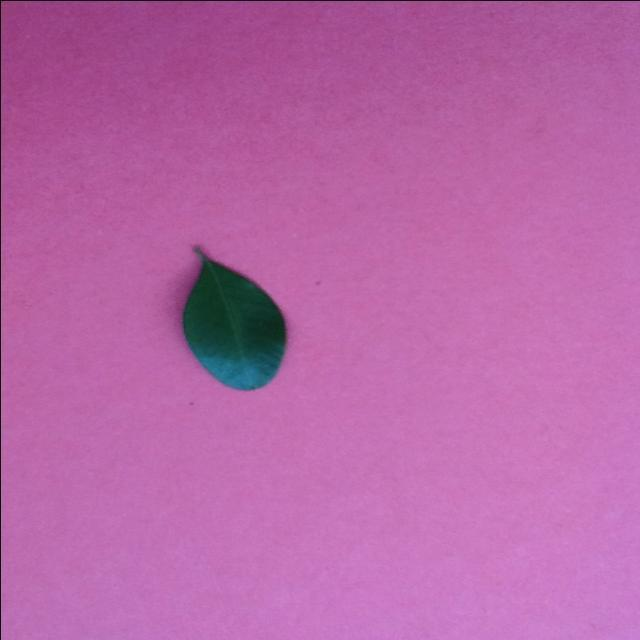foliage: (180, 245, 284, 395)
